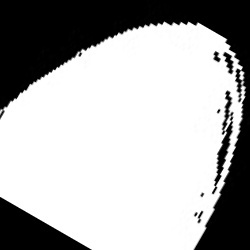spot: (1, 24, 244, 248)
